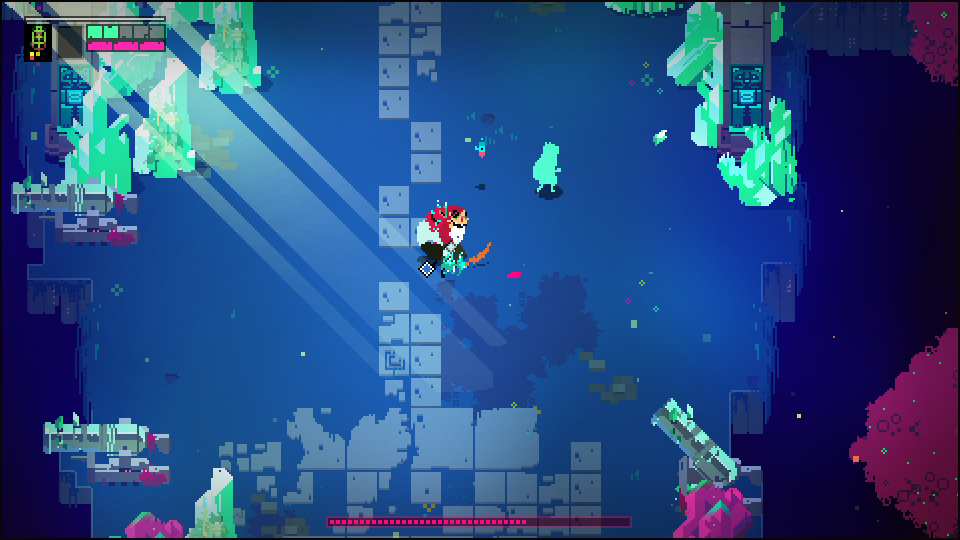hanged_man: (411, 200, 490, 279)
player: (530, 138, 562, 194)
